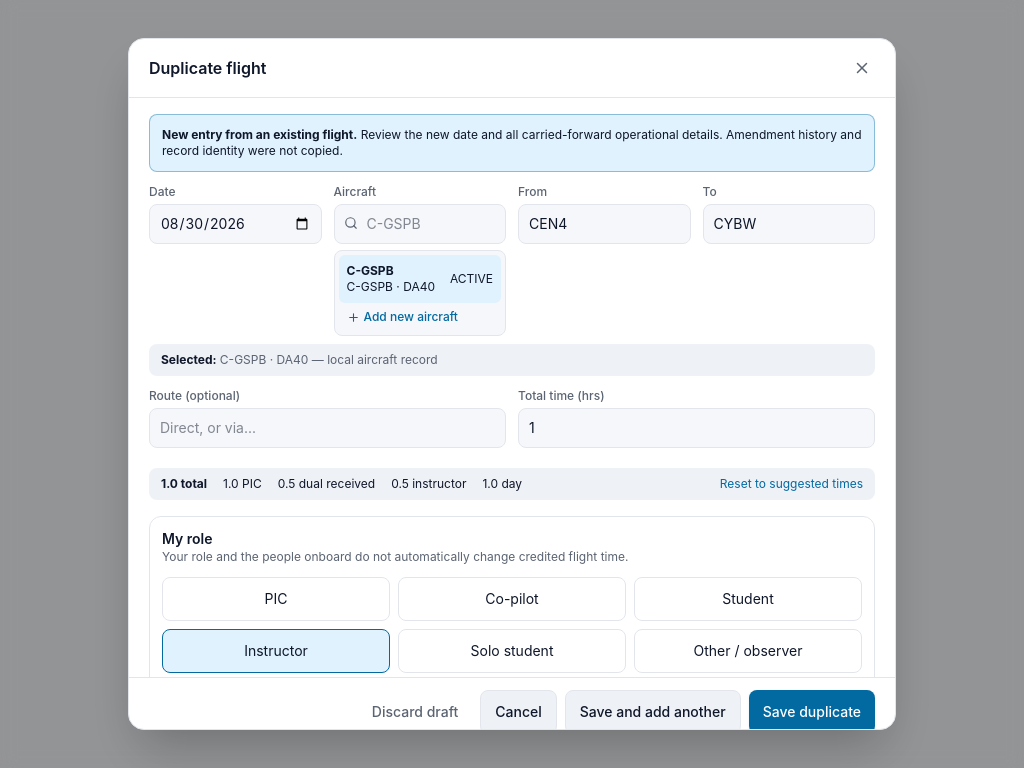
Test: FlightFormModal automatic and manual times › visibly focuses warning-only blockers after a failed save attempt
Click the button "Save duplicate". click: [812, 712]
box: x1=749 y1=690 x2=875 y2=734
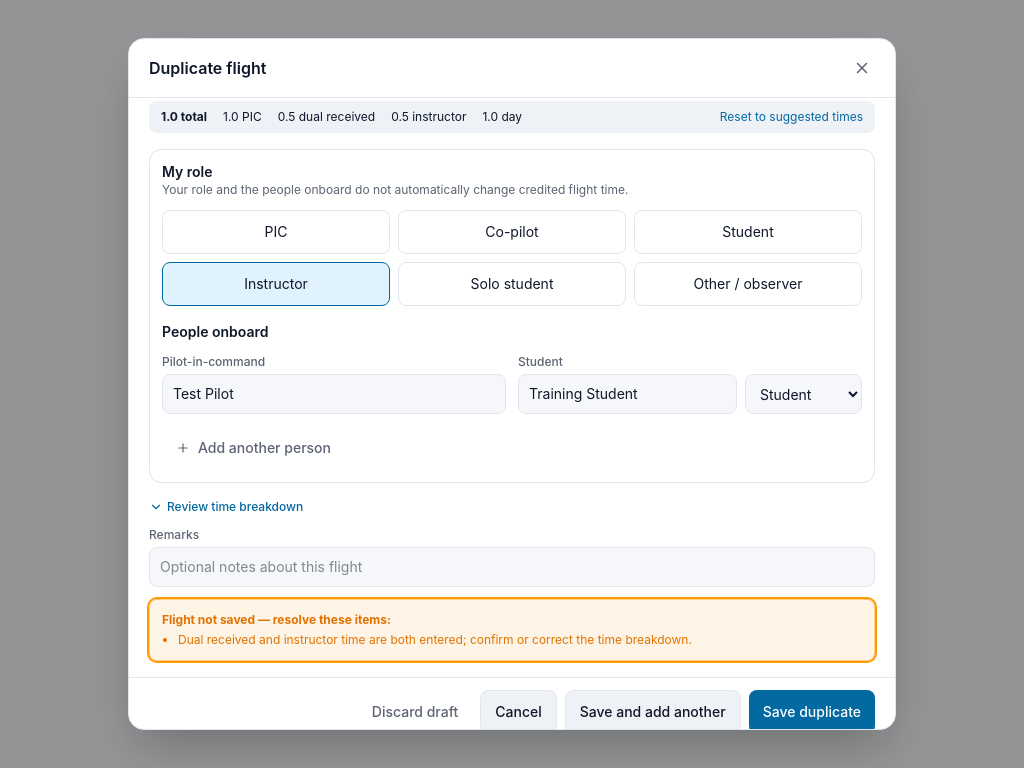
Now the message shows "Flight not saved — resolve these items", box x1=162 y1=612 x2=391 y2=627
